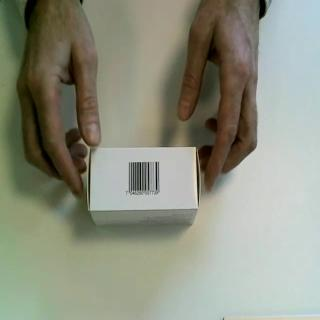oxycontin10mg: (86, 145, 202, 229)
